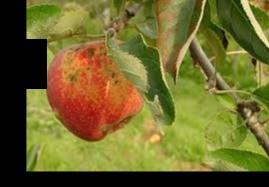rotten apple: (40, 36, 147, 142)
